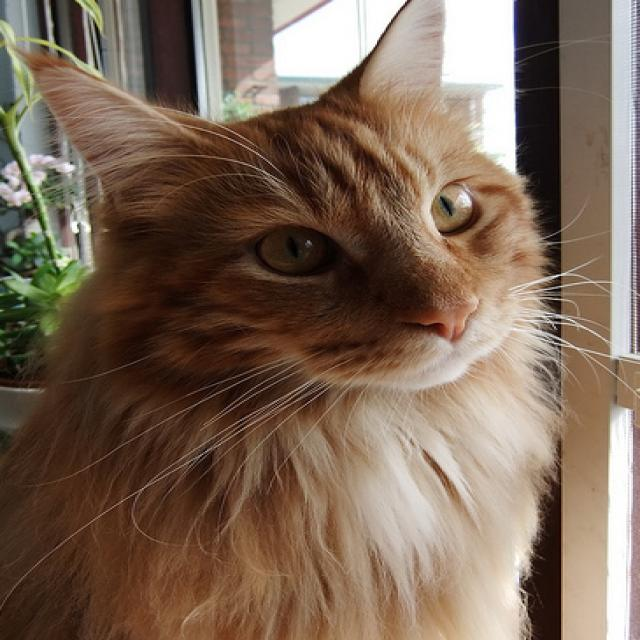Maine Coon: (0, 0, 565, 640)
